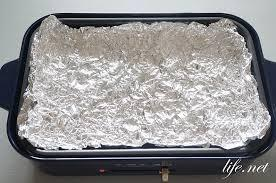metal: (31, 23, 264, 149)
